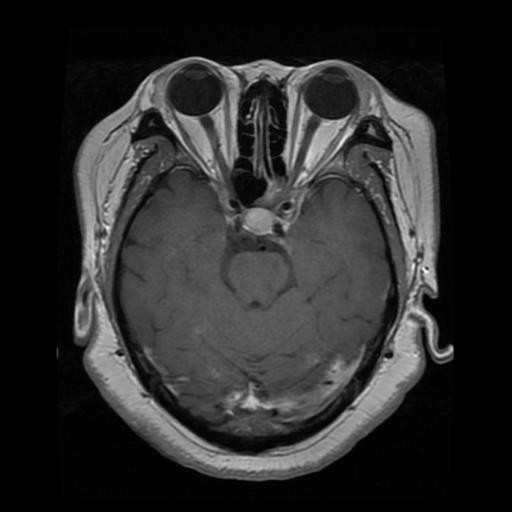Tumour-Pituitary: (230, 203, 292, 233)
